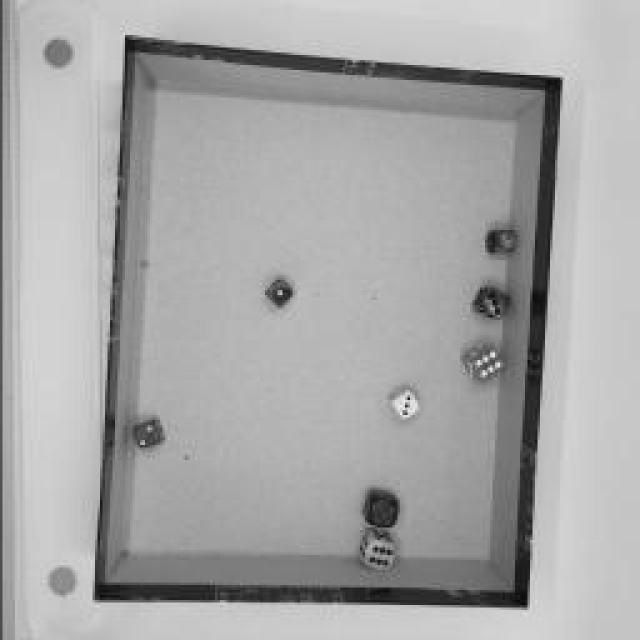dice_1: (261, 279, 294, 306)
dice_2: (128, 416, 164, 449), (483, 226, 515, 254)
dice_3: (470, 284, 510, 321), (388, 389, 418, 419)
dice_5: (359, 490, 401, 530)
dice_6: (460, 344, 505, 384), (353, 529, 395, 571)
